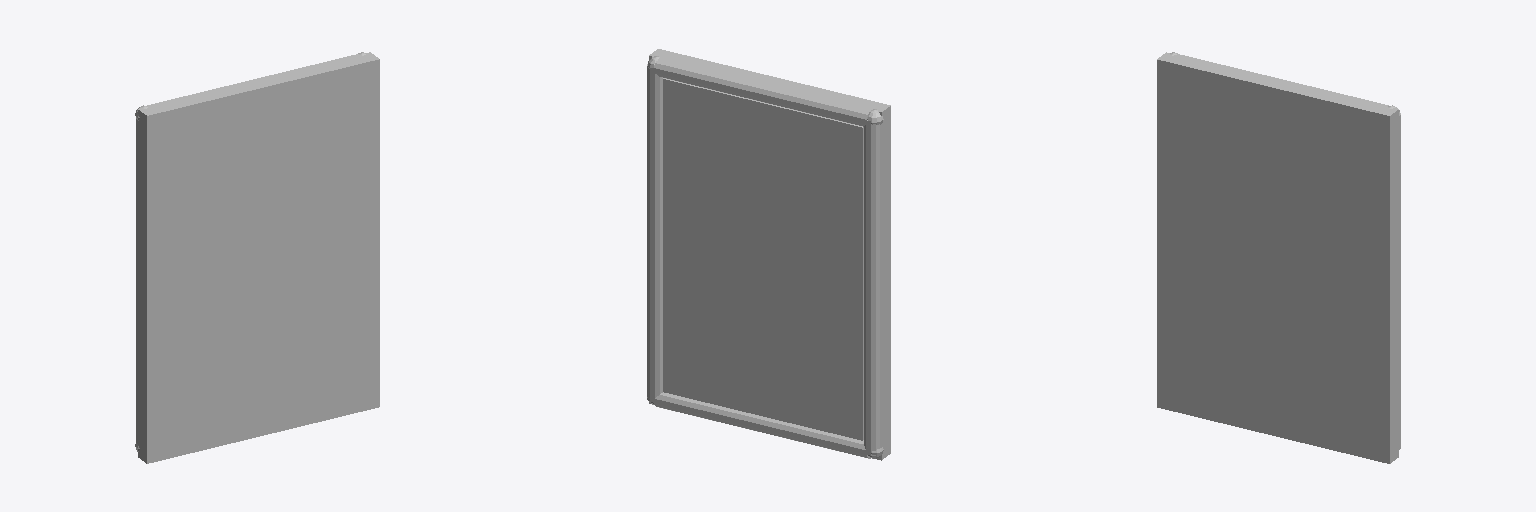
Rendered from northern_poster_explore_less.obj.
The picture shows the model from 3 angles: view 1: azimuth 30°, elevation 25°; view 2: azimuth 150°, elevation 25°; view 3: azimuth 330°, elevation 25°; orthographic projection.
Visible parts, largest first — view 1: cube, cylinder; view 2: cube, cylinder; view 3: cube, cylinder.
Boxes of the visible parts, <box> form: cube: <box>138,52,379,463</box>; cylinder: <box>136,54,358,443</box>; cube: <box>649,49,890,460</box>; cylinder: <box>647,57,882,458</box>; cube: <box>1157,52,1398,463</box>; cylinder: <box>1175,54,1400,449</box>.
Size of the model in its own units: 0.8781 by 1.25 by 0.0938.